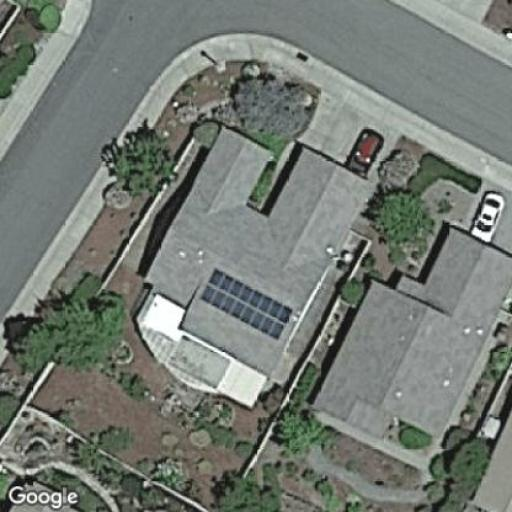solar-panel: (200, 266, 296, 342)
